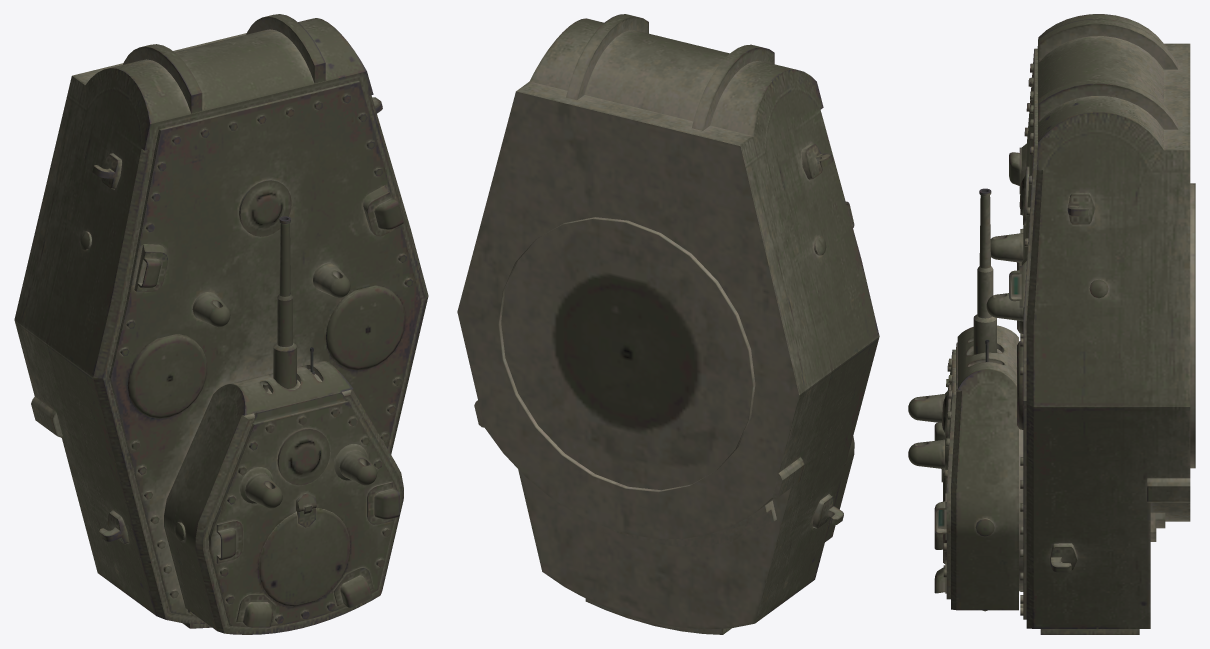
Rendered from Turret_02.glb.
The picture shows the model from 3 angles, left to right: view 1: azimuth 30°, elevation 25°; view 2: azimuth 150°, elevation 25°; view 3: azimuth 270°, elevation 25°; orthographic projection. The views are drawn at different scales.
Visible parts, largest first — view 1: set_0_group_0; view 2: set_0_group_0; view 3: set_0_group_0.
Part boxes in pixels (left/top/right/bottom): set_0_group_0: left=14, top=14, right=428, bottom=634; set_0_group_0: left=457, top=14, right=879, bottom=634; set_0_group_0: left=908, top=14, right=1195, bottom=634.
Bounding box in the file's own units: 2.48 × 3.98 × 1.85.
1 material, 1 textured.
